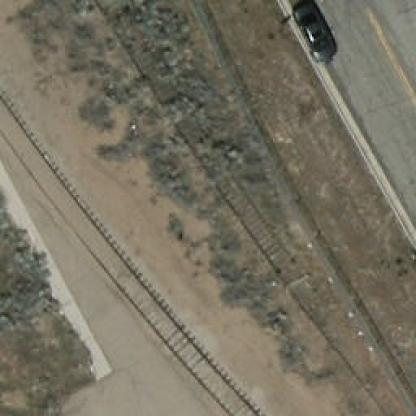car: (292, 0, 337, 59)
